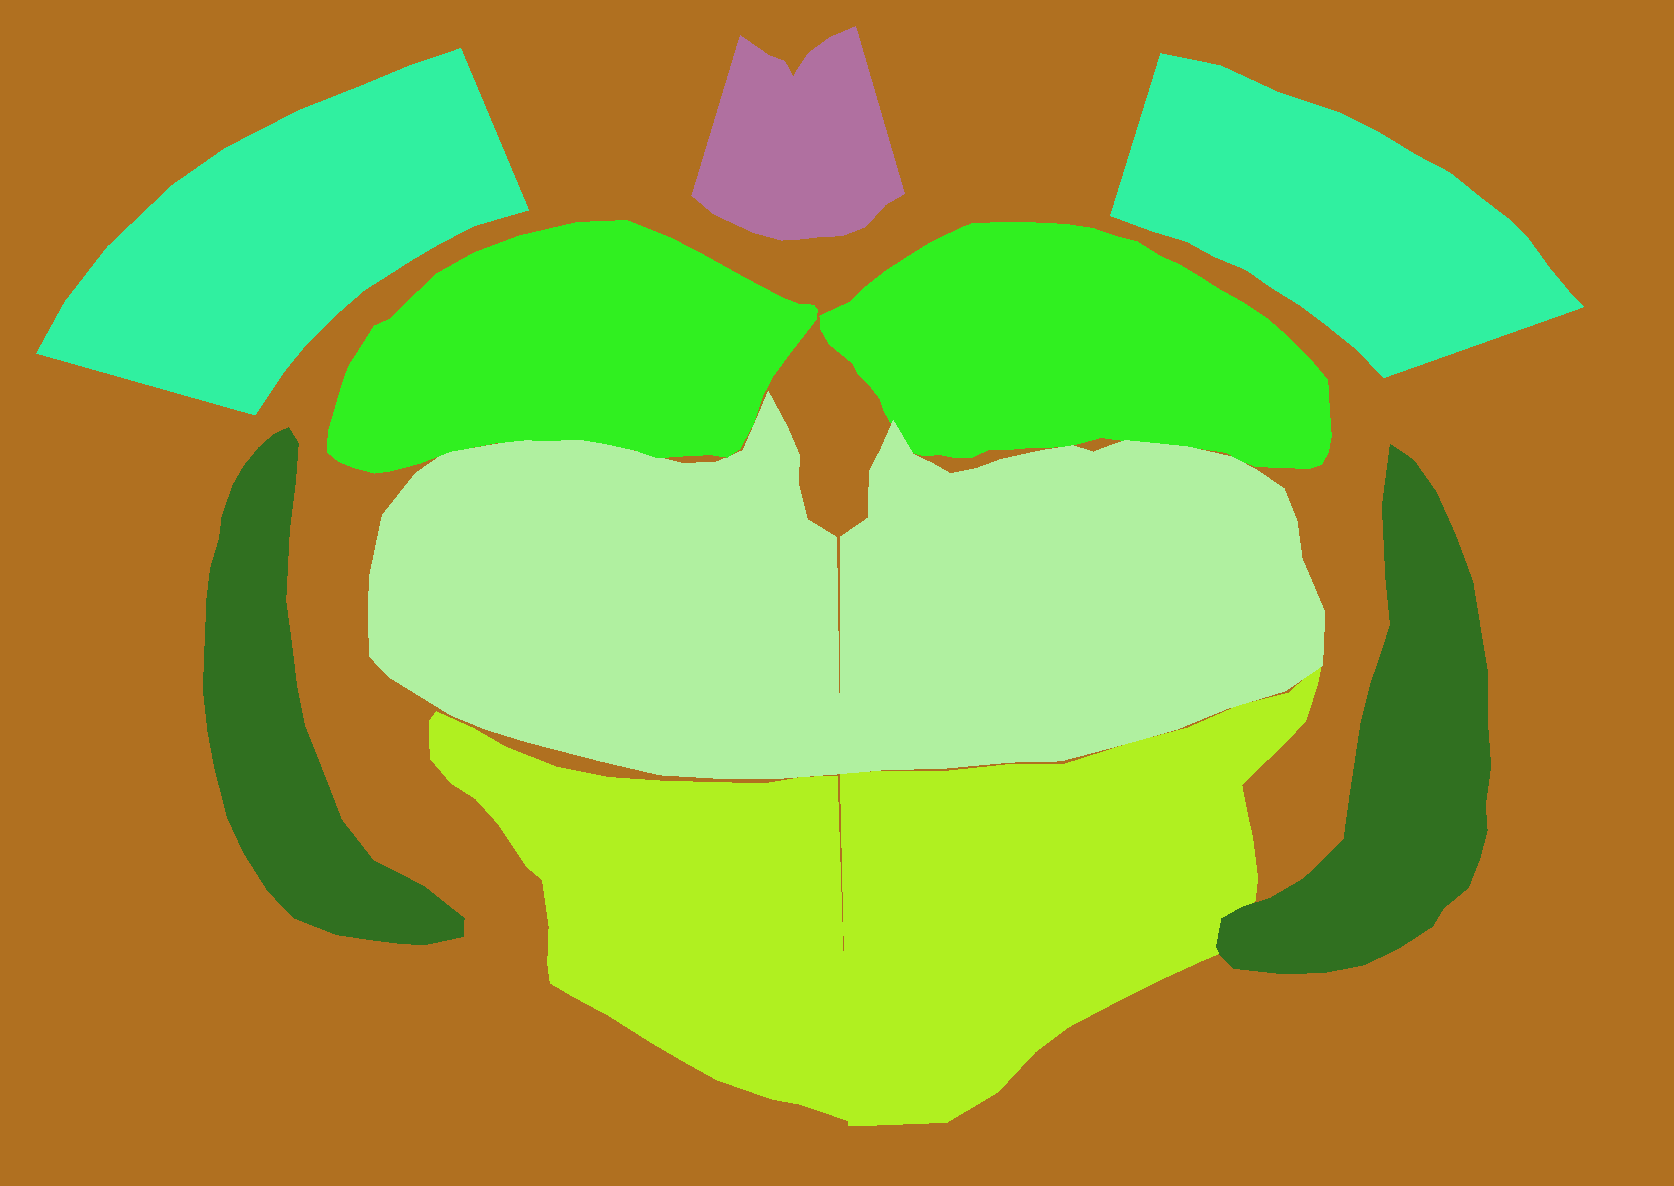Cerebral nuclei: (1216, 444, 1490, 975), (203, 427, 465, 945)
Hippocampal formation: (819, 222, 1333, 468), (327, 219, 818, 474)
Hypothalamus: (840, 661, 1324, 1126), (429, 711, 850, 1121)
Retrosplenial area: (691, 35, 809, 241), (795, 26, 905, 237)
Somatosensory area: (36, 47, 529, 416), (1110, 53, 1585, 377)
Thalamus: (368, 390, 841, 779), (840, 420, 1326, 775)
